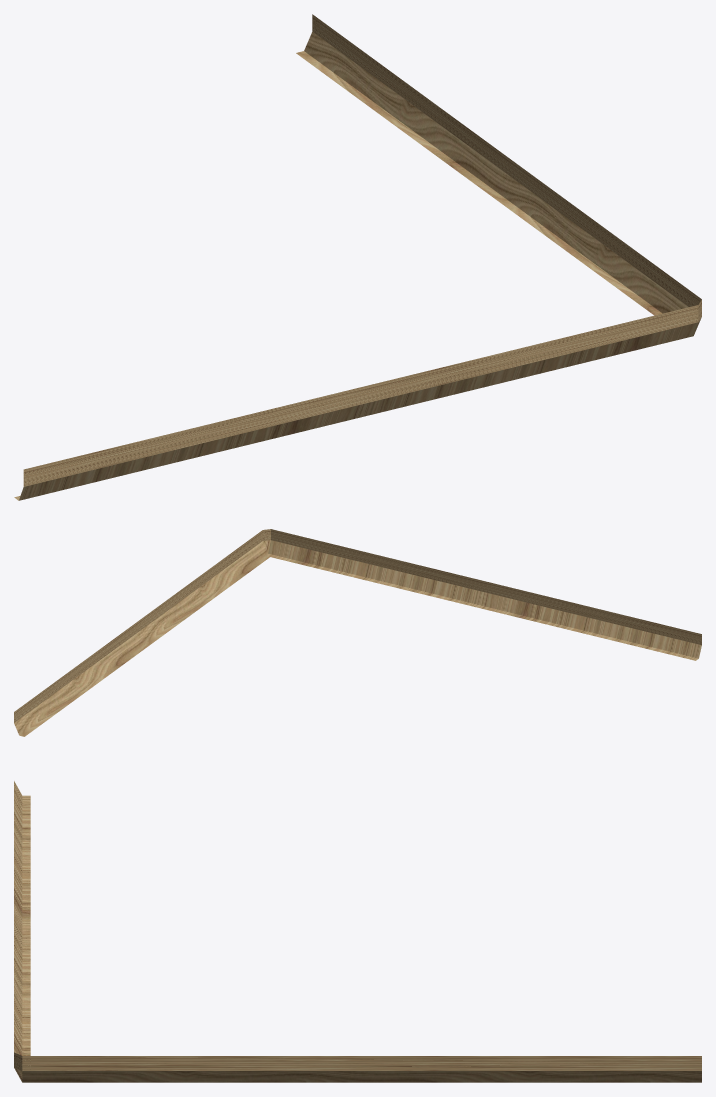
The model's file is SkirtingBoardCeilingOuterCorner001.FBX.
3 views of the same model, one above another, from view 1: azimuth 30°, elevation 25°; view 2: azimuth 150°, elevation 25°; view 3: azimuth 270°, elevation 25° (orthographic). The views are drawn at different scales.
Parts seen in each view (by area): view 1: SkirtingBoardCeilingOuterCorner002; view 2: SkirtingBoardCeilingOuterCorner002; view 3: SkirtingBoardCeilingOuterCorner002.
Boxes of the visible parts, x1,y1,x2,y2 form: SkirtingBoardCeilingOuterCorner002: (14,14,701,500); SkirtingBoardCeilingOuterCorner002: (14,529,701,736); SkirtingBoardCeilingOuterCorner002: (14,781,701,1082).
Size of the model in its own units: 205 by 10 by 205.
